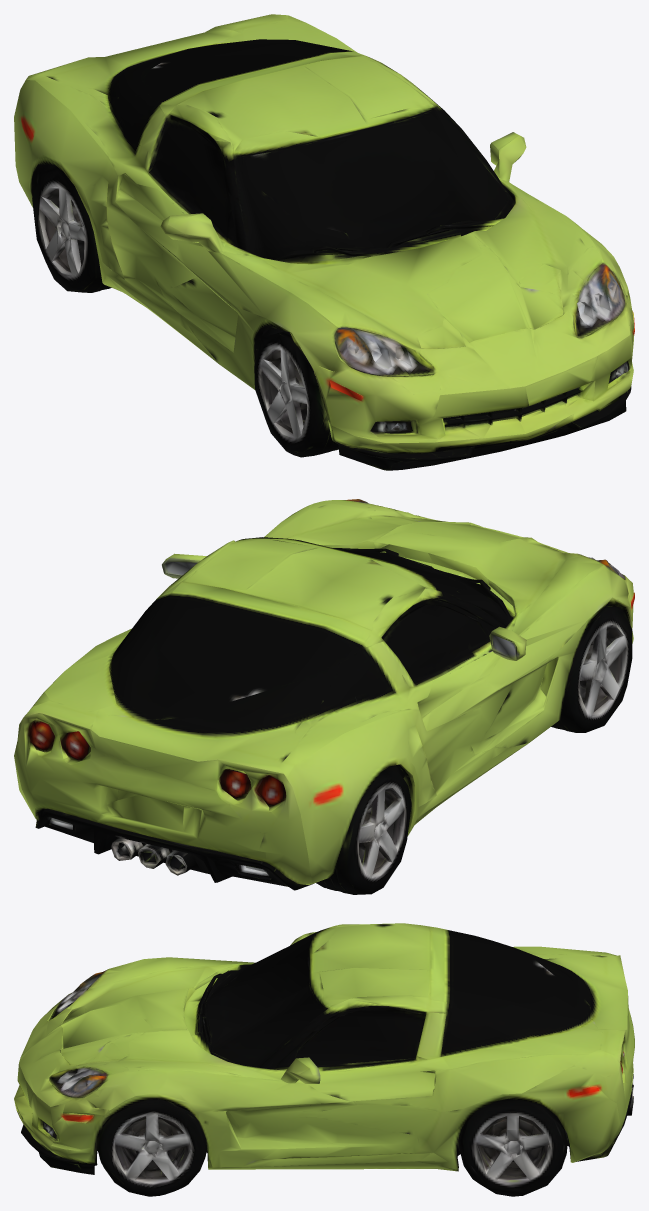
Rendered from sport_lod.glb.
The picture shows the model from 3 angles, top to bottom: view 1: azimuth 30°, elevation 25°; view 2: azimuth 150°, elevation 25°; view 3: azimuth 270°, elevation 25°; orthographic projection. The views are drawn at different scales.
Visible parts, largest first — view 1: material; view 2: material; view 3: material.
Boxes of the visible parts, bbox=[...] form: material: bbox=[14, 14, 634, 470]; material: bbox=[14, 499, 634, 894]; material: bbox=[14, 923, 634, 1196].
Bounding box in the file's own units: 0.5429 × 0.3217 × 0.9991.
Materials: 1 (1 with a texture image).
